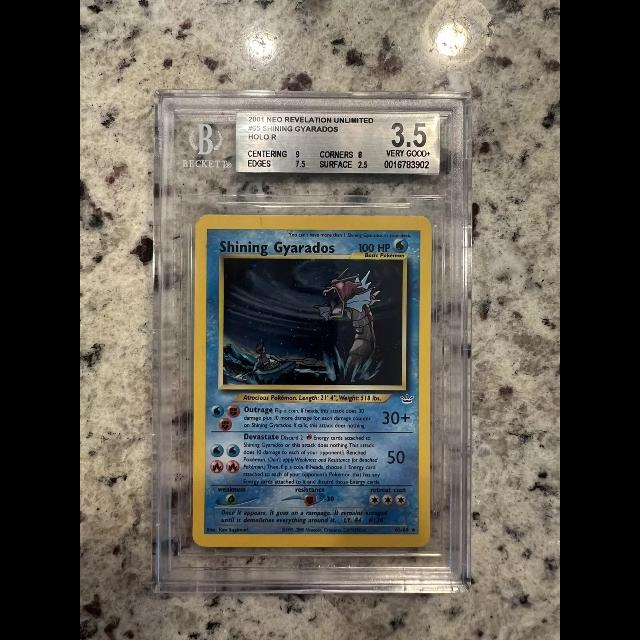bgs_label: (235, 112, 441, 175)
bgs_slab: (149, 89, 473, 593)
card: (192, 213, 433, 547)
